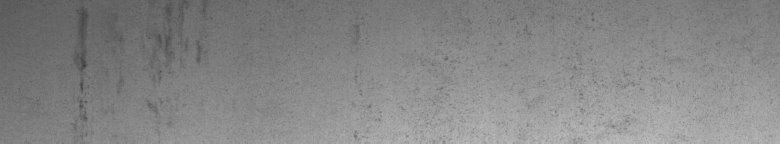ib: (570, 13, 644, 129)
